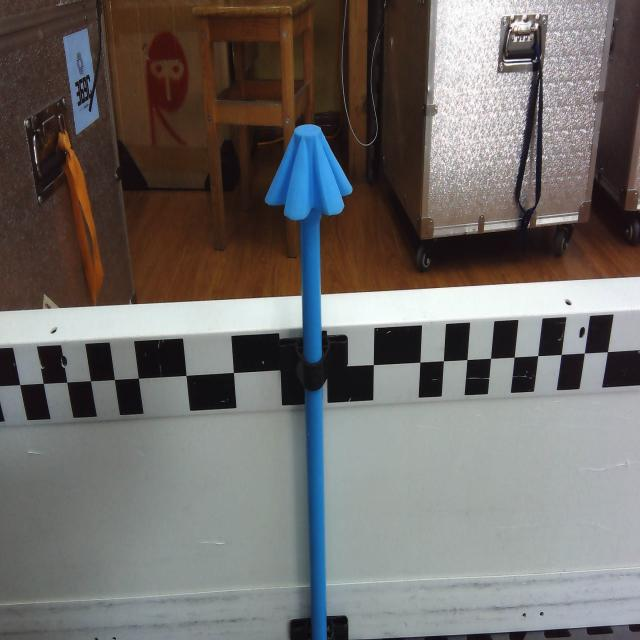zblue-Stake-Head: (264, 121, 354, 222)
